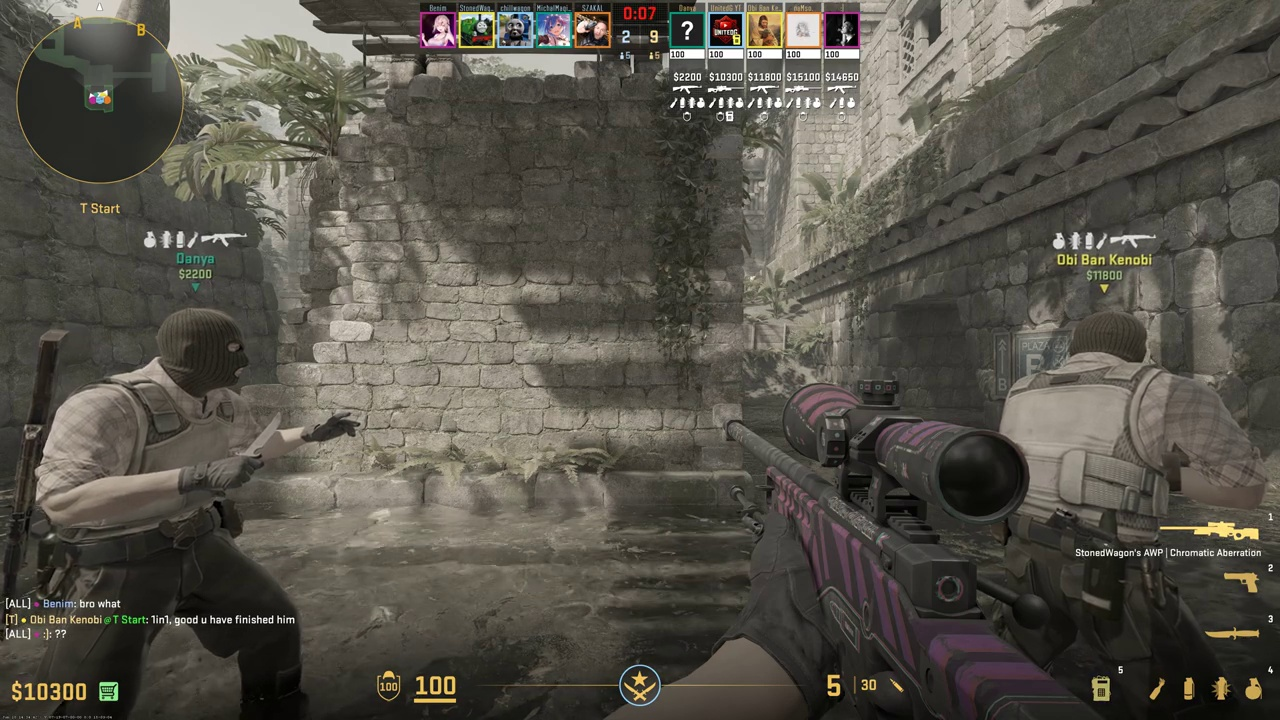Terrorist: (42, 311, 307, 720), (1003, 311, 1239, 712)
